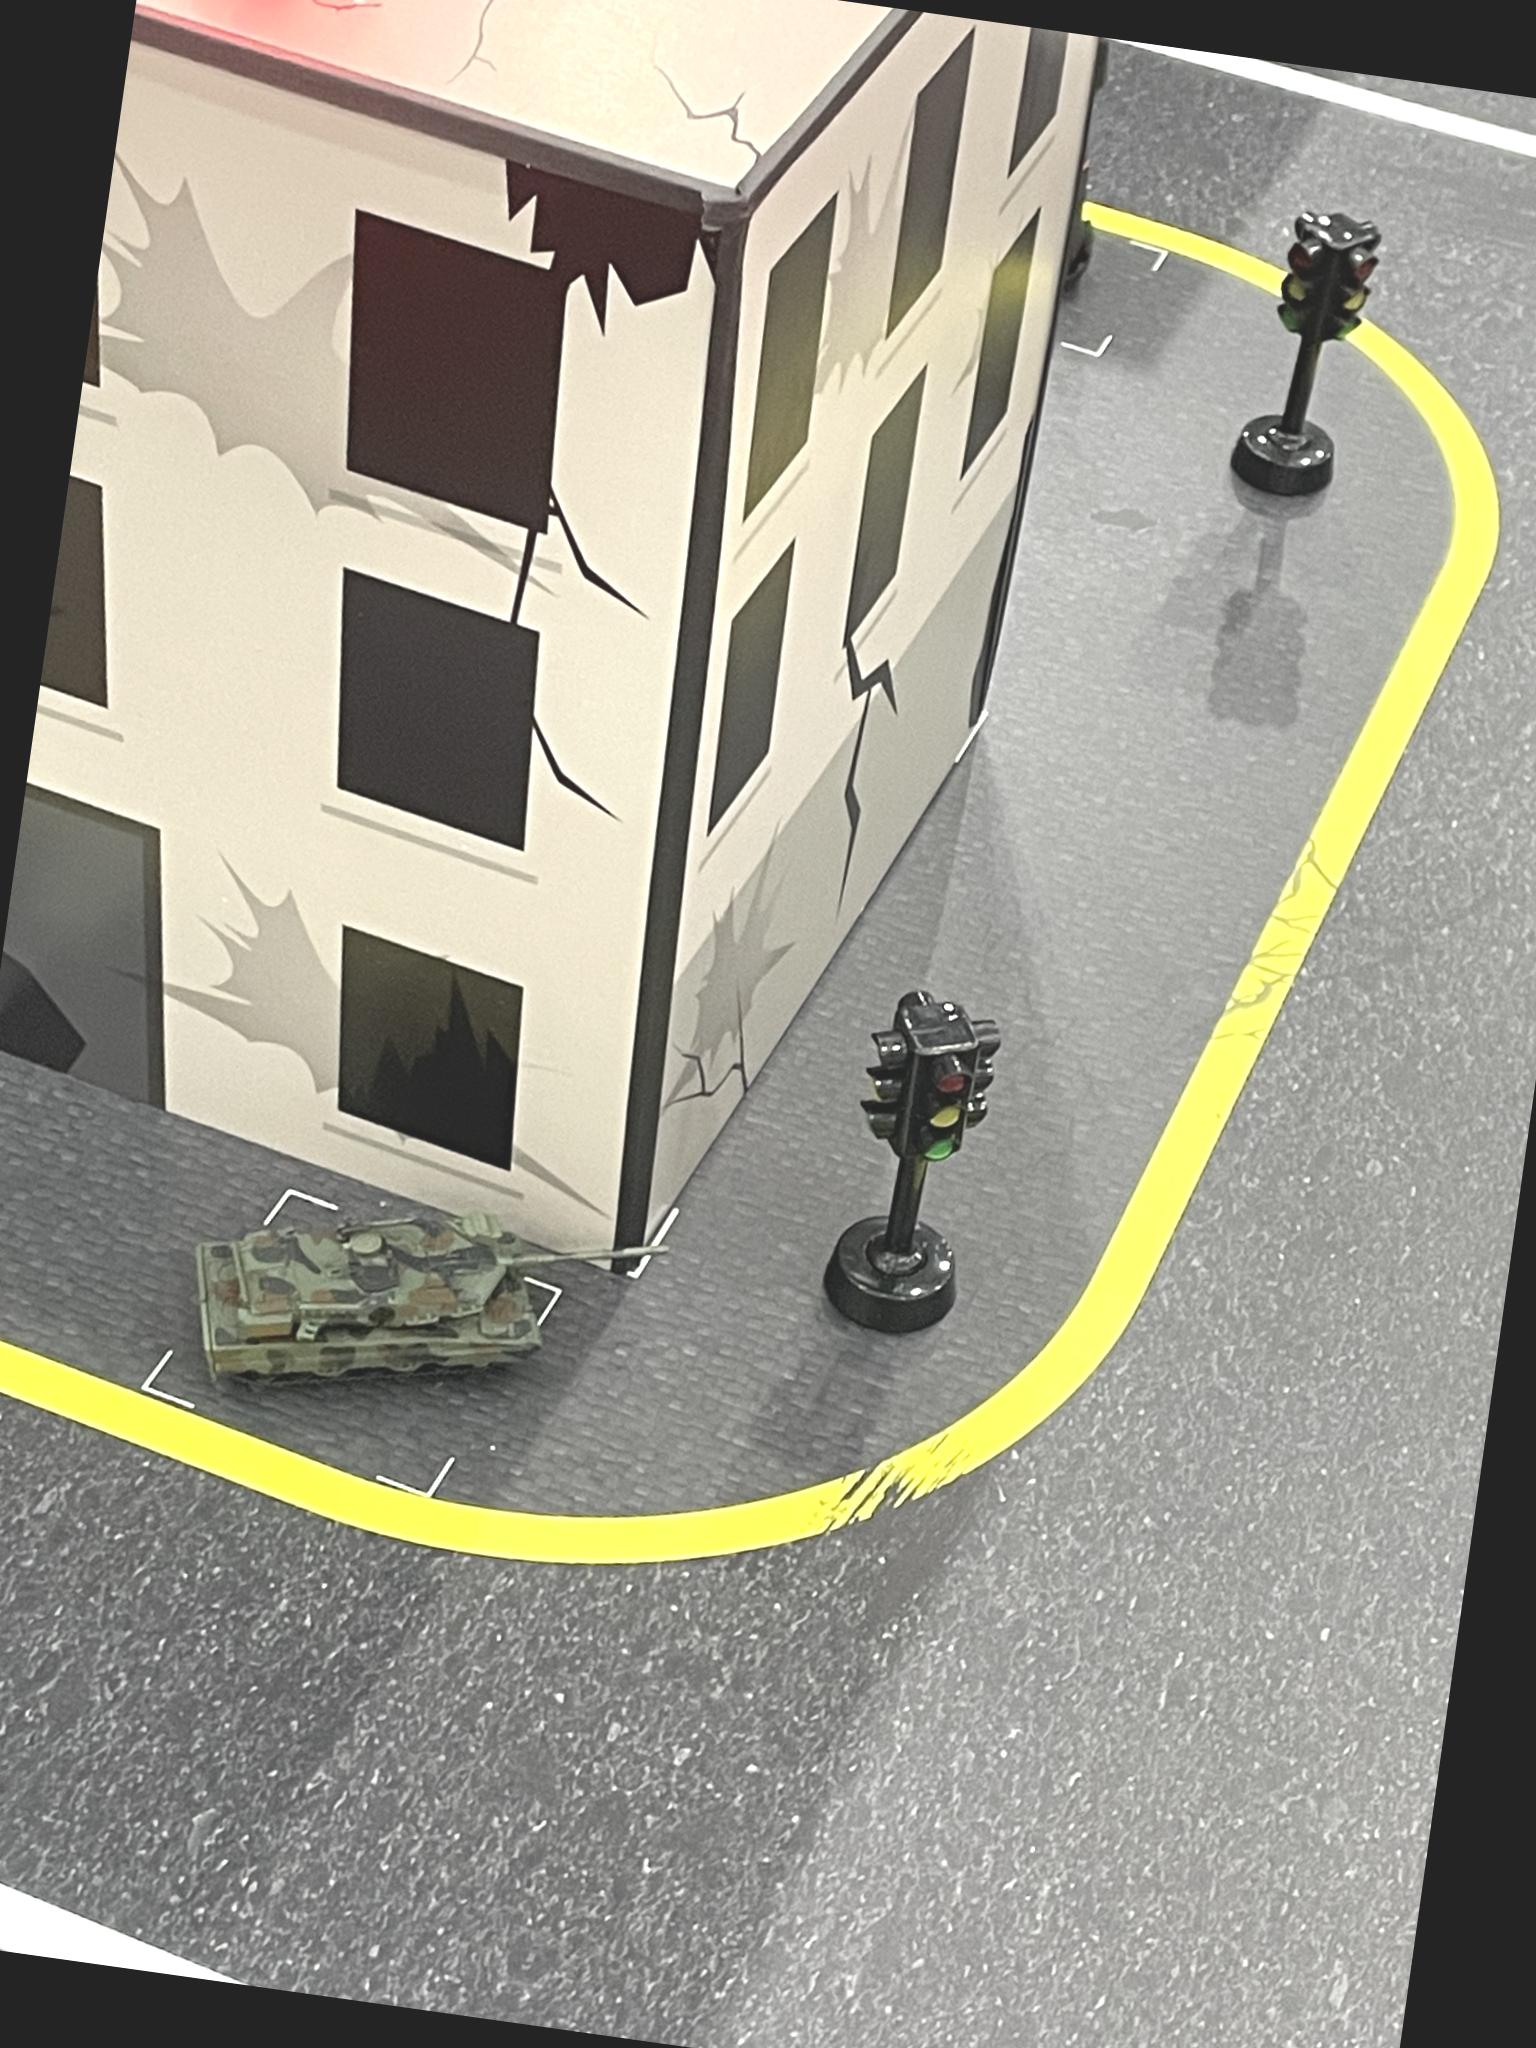Tank: (173, 1168, 671, 1438)
